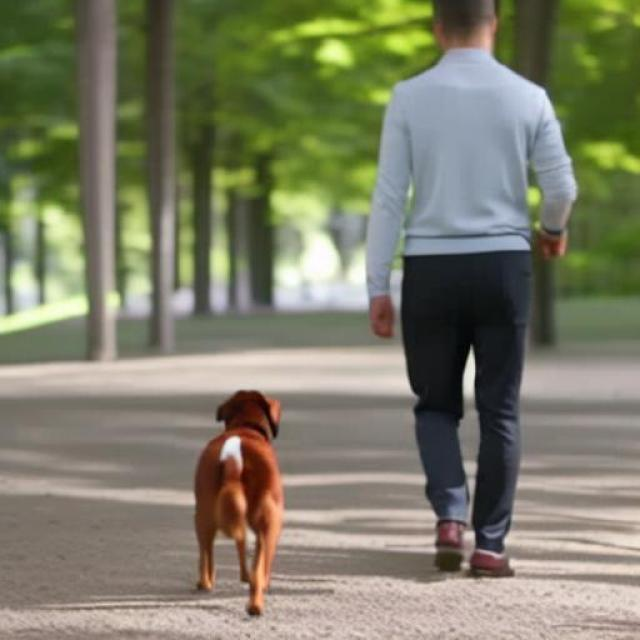Unleashed_Dog: (192, 253, 530, 616)
